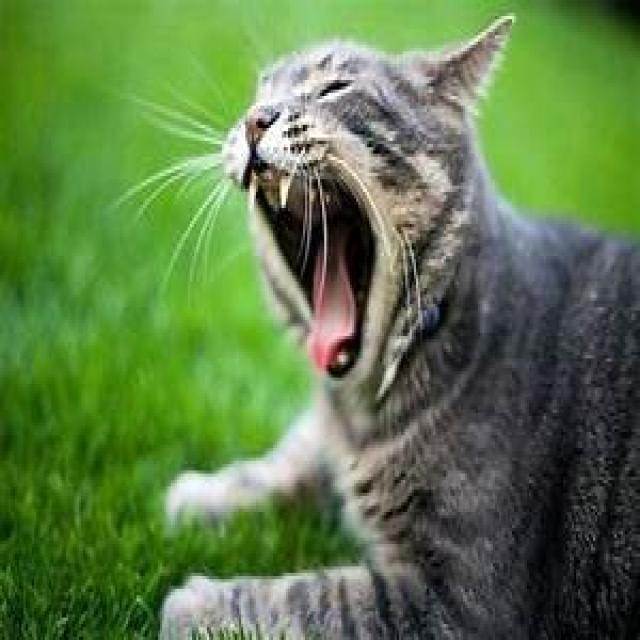animal: (161, 12, 640, 640)
